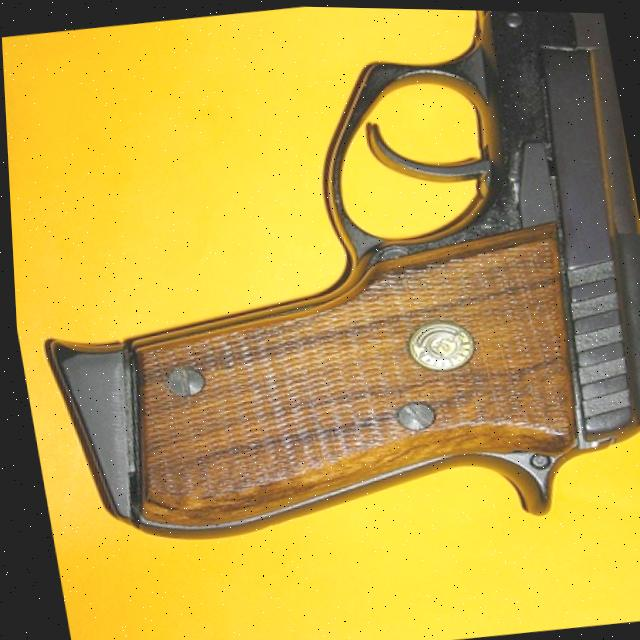pistol: (0, 0, 640, 572)
